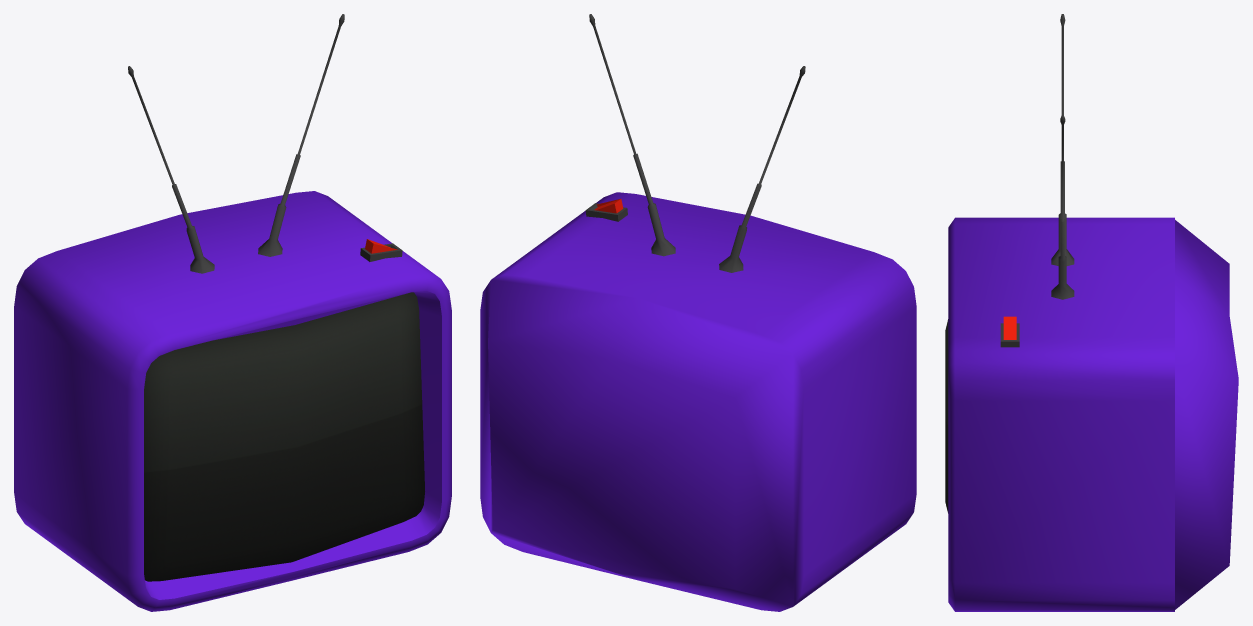
3 renders of one model, left to right at view 1: azimuth 30°, elevation 25°; view 2: azimuth 150°, elevation 25°; view 3: azimuth 270°, elevation 25°, orthographic. The views are drawn at different scales.
Parts seen in each view (by area): view 1: Tv; view 2: Tv; view 3: Tv.
Boxes of the visible parts, x1,y1,x2,y2 form: Tv: (14, 14, 451, 611); Tv: (480, 14, 916, 611); Tv: (945, 14, 1238, 611).
Size of the model in its own units: 125 by 184 by 101.
